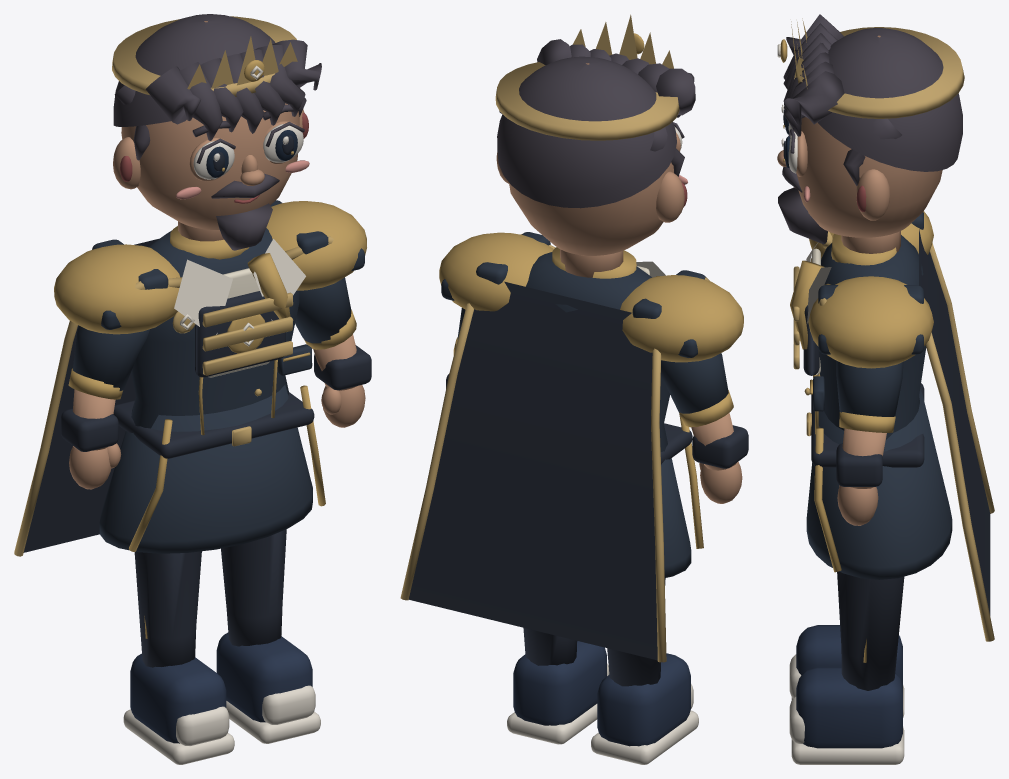
The model's file is xingyin-characters-v1__elite_iron_master.glb.
3 renders of one model, left to right at view 1: azimuth 30°, elevation 25°; view 2: azimuth 150°, elevation 25°; view 3: azimuth 270°, elevation 25°, orthographic. The views are drawn at different scales.
Visible parts, largest first — view 1: figure.024; view 2: figure.024; view 3: figure.024.
Boxes of the visible parts, <box> form: figure.024: <box>14,14,371,764</box>; figure.024: <box>400,14,748,764</box>; figure.024: <box>777,14,994,764</box>.
Size of the model in its own units: 1.29 by 2.96 by 0.8179.
